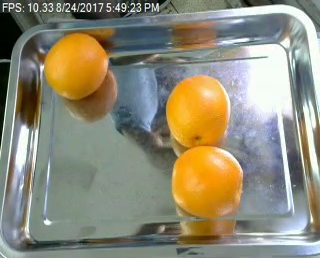Orange: (170, 144, 244, 217), (165, 74, 230, 147), (45, 33, 108, 99)
